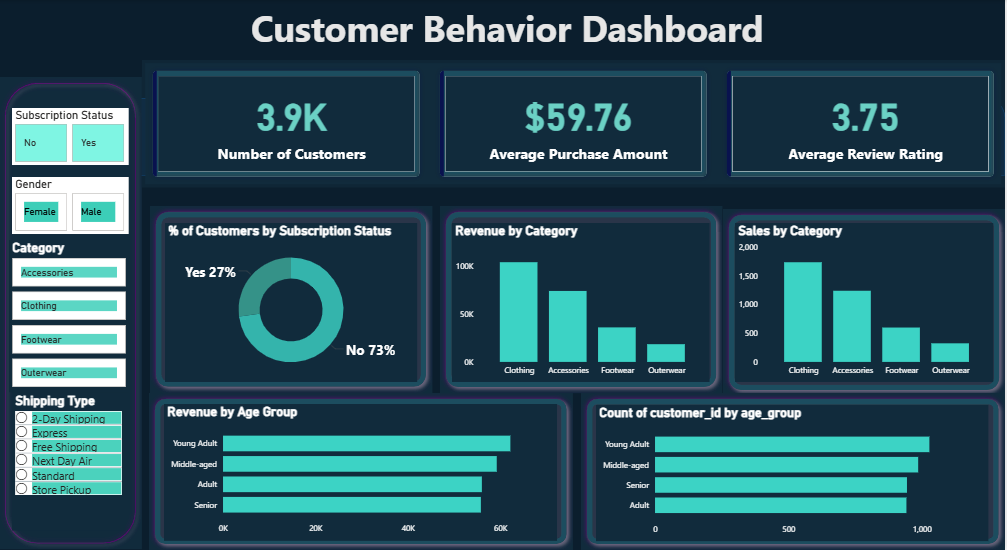

What the dashboard file says about the page in this screenshot:
{"tool":"powerbi","page":{"name":"Page 1","canvas":[1500,820],"ordinal":0},"visuals":[{"type":"shape","box":[0,146.8,1500,116.1],"z":1500},{"type":"cardVisual","fields":{"Data":["public customer.Number of Customers","public customer.Average Purchase Amount","public customer.Average Review Rating"]},"box":[212.9,88.7,1287.1,190.3],"z":2000},{"type":"shape","box":[224.2,585.5,631.7,234.2],"z":2500,"group":"g1"},{"type":"textbox","box":[14.5,0,1485.5,116.1],"z":4000},{"type":"shape","box":[225.4,307,420.5,278.6],"z":5000},{"type":"donutChart","title":"% of Customers by Subscription Status","fields":{"Category":["public customer.subscription_status"],"Y":["CountNonNull(public customer.customer_id)"]},"box":[246.8,332.3,375.8,237.1],"z":6000},{"type":"shape","box":[1079,311.3,421,279],"z":7000},{"type":"shape","box":[658.1,306.5,421,279],"z":8000},{"type":"clusteredColumnChart","title":"Revenue by Category","fields":{"Y":["Sum(public customer.purchase_amount)"],"Category":["public customer.category"]},"box":[675.8,332.3,383.9,237.1],"z":9000},{"type":"clusteredColumnChart","title":"Sales by Category","fields":{"Y":["CountNonNull(public customer.customer_id)"],"Category":["public customer.category"]},"box":[1096.8,332.3,385.5,237.1],"z":10000},{"type":"shape","box":[0,115.3,212.9,704.5],"z":11000},{"type":"advancedSlicerVisual","fields":{"Values":["public customer.subscription_status"]},"box":[19.5,161.5,173.9,85.2],"z":12000},{"type":"advancedSlicerVisual","fields":{"Values":["public customer.gender"]},"box":[19.5,264.4,173.9,85.2],"z":13000},{"type":"advancedSlicerVisual","fields":{"Values":["public customer.category"]},"box":[14.5,358.1,179,227.4],"z":14000},{"type":"listSlicer","fields":{"Values":["public customer.shipping_type"]},"box":[19.4,585.5,169.4,204.8],"z":15000},{"type":"shape","box":[867.7,585.6,631.7,234.2],"z":16000},{"type":"clusteredBarChart","fields":{"Y":["CountNonNull(public customer.customer_id)"],"Category":["public customer.age_group"]},"box":[890.3,603.2,585.5,203.2],"z":17000},{"type":"clusteredBarChart","title":"Revenue by Age Group","fields":{"Y":["Sum(public customer.purchase_amount)"],"Category":["public customer.age_group"]},"box":[247.3,601.5,585.6,204.1],"z":17500,"group":"g1"},{"type":"group","id":"g1","title":"Group 1","box":[224.2,585.5,632.3,233.9],"z":17501}]}

Visuals, with their boxes in screenshot pixels (x1, y1, x2, y2), scaled from the page's 1500x820 canvas onto the 1007x550 screenshot:
shape: rect(0, 98, 1006, 176)
cardVisual - public customer.Number of Customers x public customer.Average Purchase Amount: rect(143, 59, 1006, 187)
shape: rect(151, 393, 575, 549)
textbox: rect(10, 0, 1006, 78)
shape: rect(151, 206, 434, 393)
"% of Customers by Subscription Status" donutChart: rect(166, 223, 418, 382)
shape: rect(724, 209, 1006, 396)
shape: rect(442, 206, 724, 393)
"Revenue by Category" clusteredColumnChart: rect(454, 223, 711, 382)
"Sales by Category" clusteredColumnChart: rect(736, 223, 995, 382)
shape: rect(0, 77, 143, 549)
advancedSlicerVisual - public customer.subscription_status: rect(13, 108, 130, 165)
advancedSlicerVisual - public customer.gender: rect(13, 177, 130, 234)
advancedSlicerVisual - public customer.category: rect(10, 240, 130, 393)
listSlicer - public customer.shipping_type: rect(13, 393, 127, 530)
shape: rect(583, 393, 1006, 549)
clusteredBarChart - CountNonNull(public customer.customer_id) x public customer.age_group: rect(598, 405, 991, 541)
"Revenue by Age Group" clusteredBarChart: rect(166, 403, 559, 540)
"Group 1" group: rect(151, 393, 575, 549)
